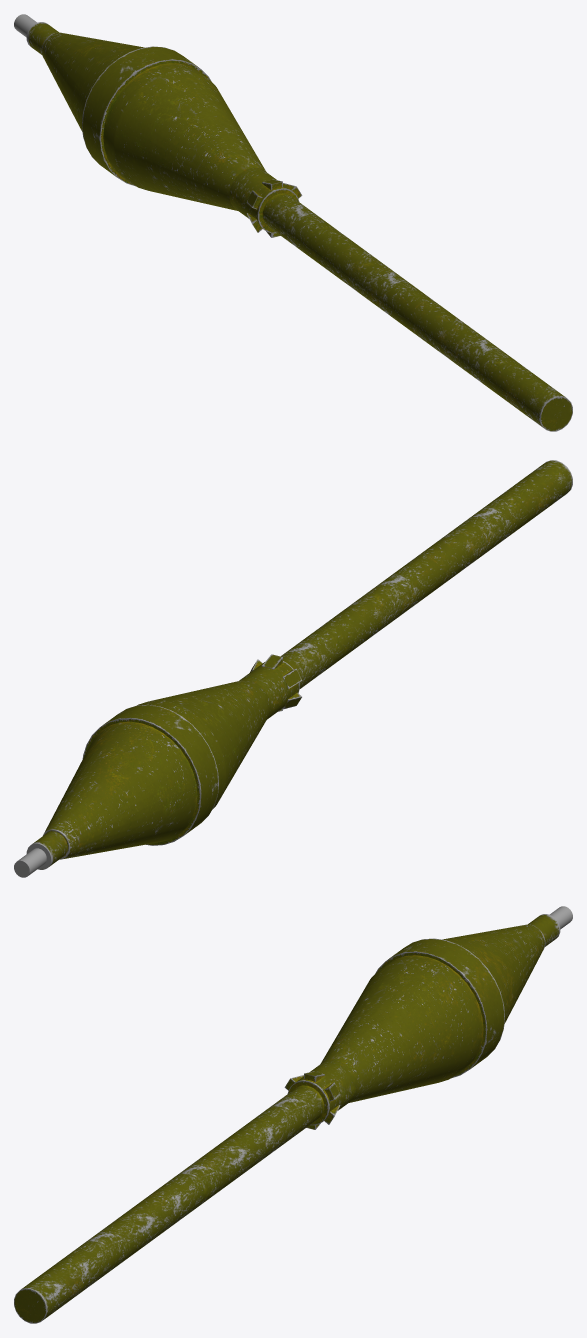
The model's file is rocket.glb.
3 views of the same model, one above another, from view 1: azimuth 30°, elevation 25°; view 2: azimuth 150°, elevation 25°; view 3: azimuth 330°, elevation 25° (orthographic).
Visible parts, largest first — view 1: RPG-7_Rocket; view 2: RPG-7_Rocket; view 3: RPG-7_Rocket.
Boxes of the visible parts, left/top/right/bottom form: RPG-7_Rocket: left=14, top=14, right=572, bottom=431; RPG-7_Rocket: left=14, top=460, right=572, bottom=877; RPG-7_Rocket: left=14, top=906, right=572, bottom=1323.
Size of the model in its own units: 0.1034 by 0.1034 by 0.8059.
1 material, 1 textured.
